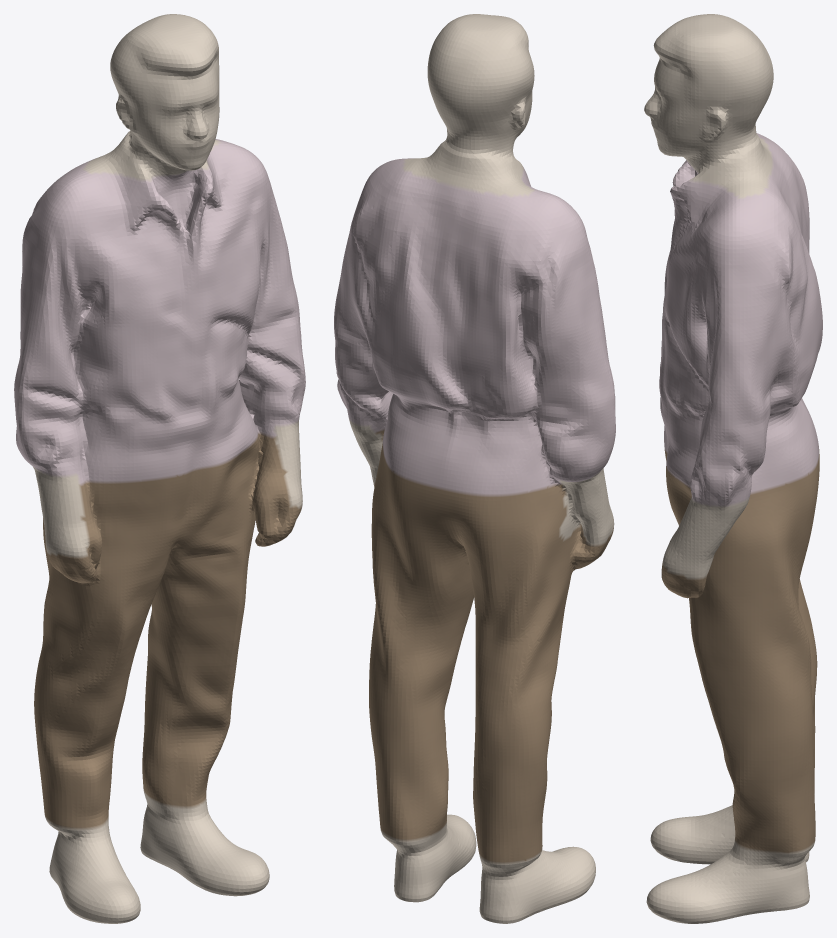
Rendered from shirt3_pant5.glb.
3 views of the same model, side by side, from view 1: azimuth 30°, elevation 25°; view 2: azimuth 150°, elevation 25°; view 3: azimuth 270°, elevation 25° (orthographic).
Visible parts, largest first — view 1: geometry_0; view 2: geometry_0; view 3: geometry_0.
Part boxes in pixels (bbox=[...]): geometry_0: bbox=[14, 14, 305, 923]; geometry_0: bbox=[334, 14, 615, 923]; geometry_0: bbox=[644, 14, 822, 923].
Bounding box in the file's own units: 0.6743 × 1.99 × 0.3729.
